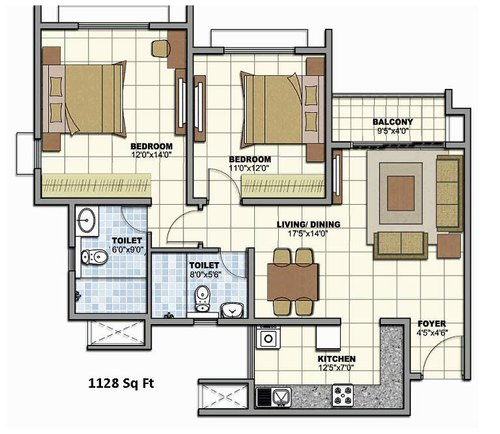balcony: (322, 87, 473, 149)
door: (425, 333, 463, 366), (201, 160, 235, 195), (163, 210, 196, 243), (220, 256, 250, 282), (120, 203, 143, 233)
room: (245, 139, 476, 326), (32, 19, 196, 208), (184, 43, 337, 206), (245, 315, 413, 416), (65, 194, 155, 324), (146, 245, 258, 326)
window: (76, 18, 152, 33), (221, 41, 297, 56), (29, 134, 45, 170)
